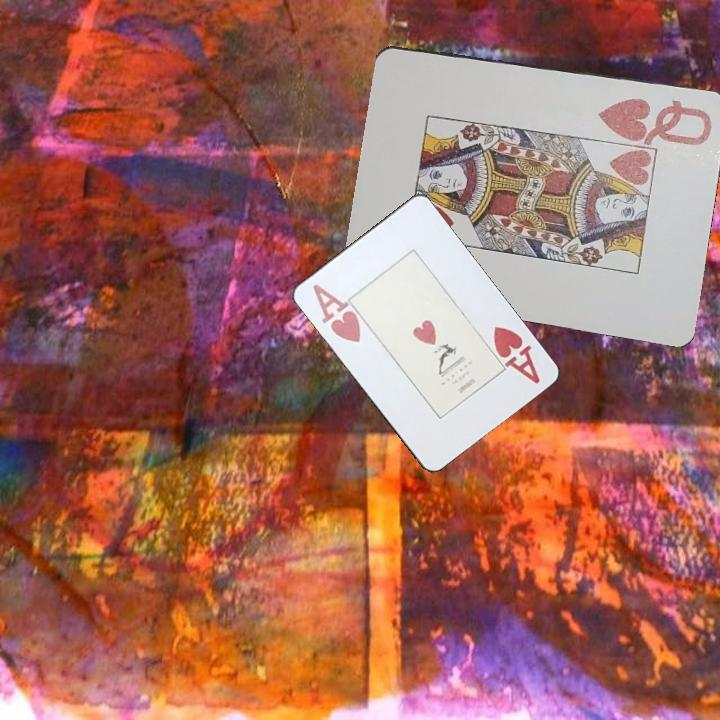Ah: (309, 280, 365, 347), (489, 322, 543, 387)
Qh: (595, 93, 716, 148)
